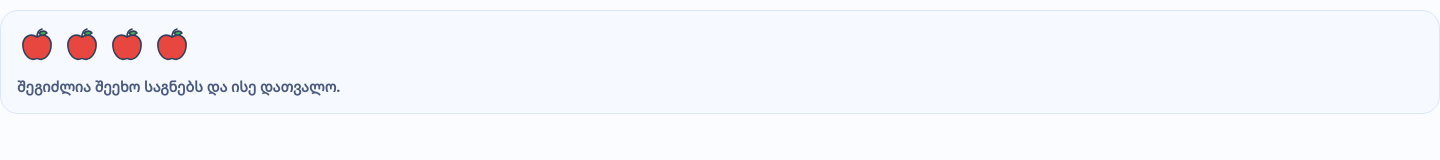
it: PictureView interaction › lets a student tap objects to count them, in order
The width and height of the screenshot is (1440, 160).
Step 1. Click the 1st button named "დასათვლელი" → (37, 45), box [17,25,57,65]
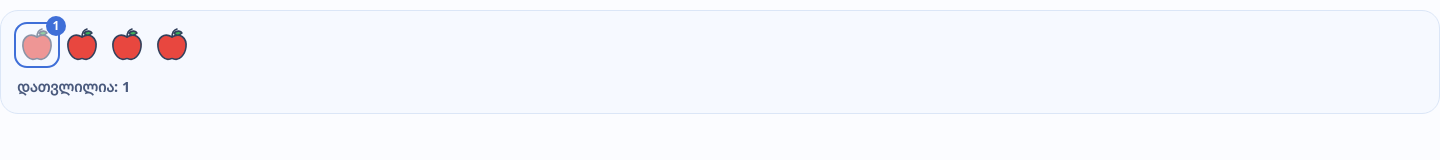
Step 2. Click the 1st button named "დასათვლელი" → (82, 45), box [62,25,102,65]
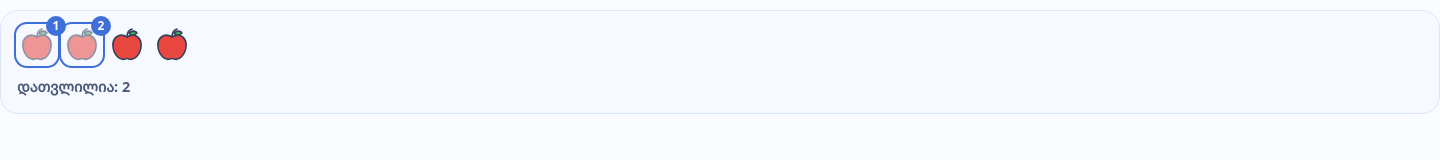
Expected: the text "დათვლილია: 2" is shown, [17,77,130,96]
